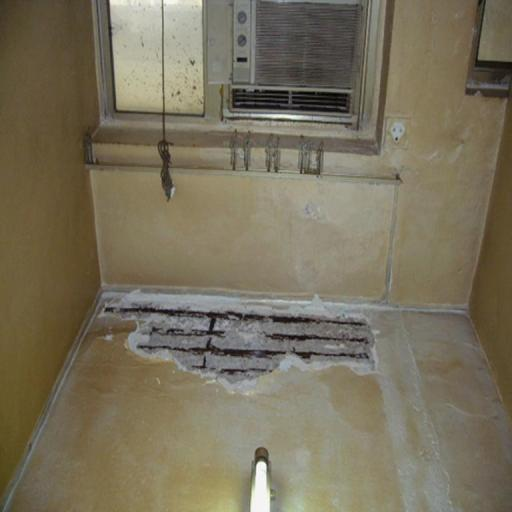spalling: (102, 297, 379, 390)
